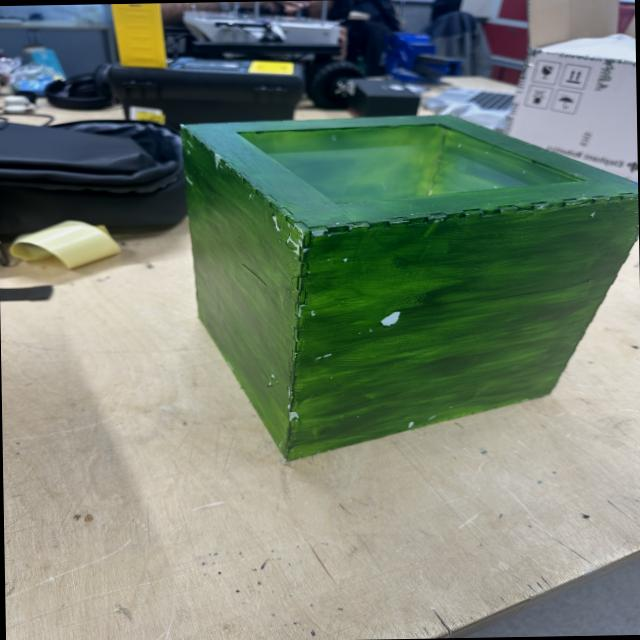green_bin: (181, 110, 640, 461)
